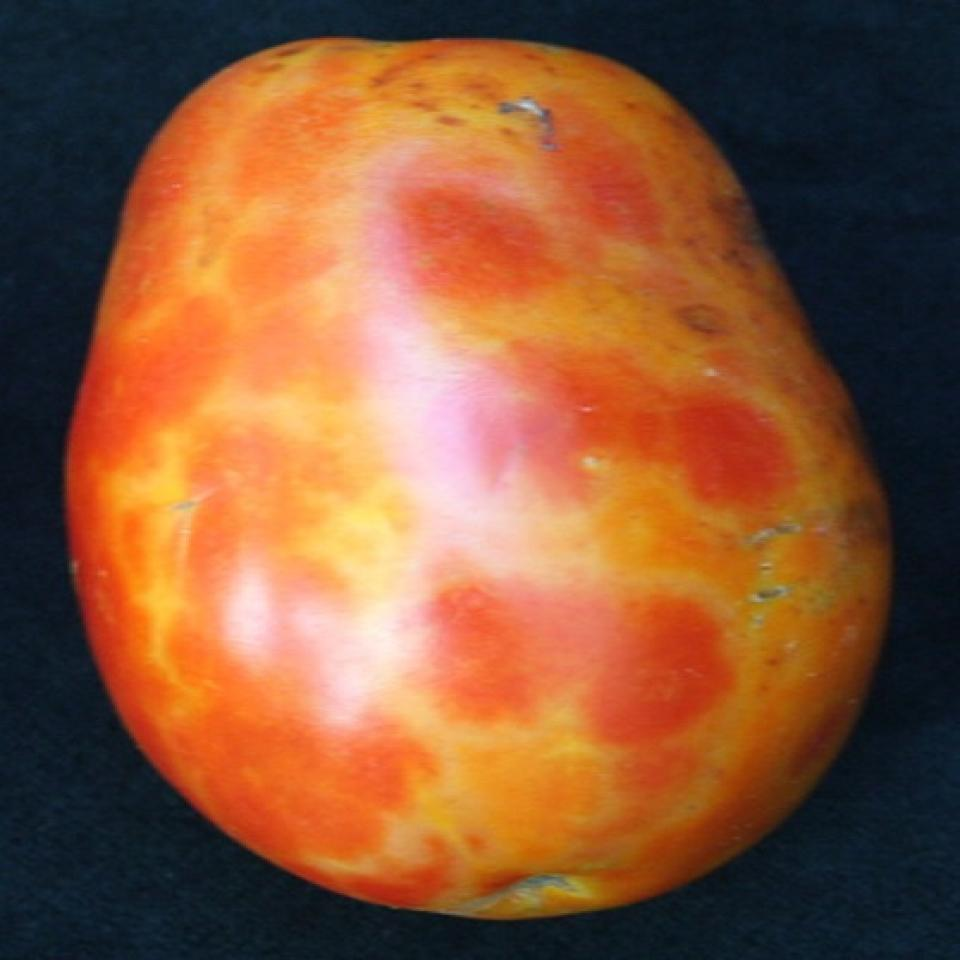Spotted wilt Virus: (61, 29, 896, 924)
